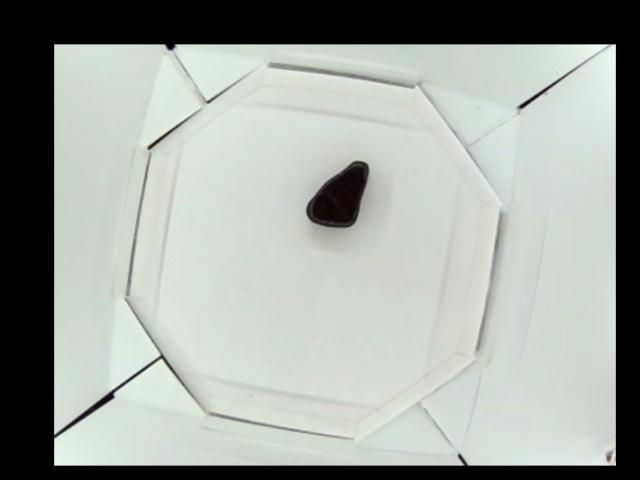Pebble: (304, 161, 369, 228)
